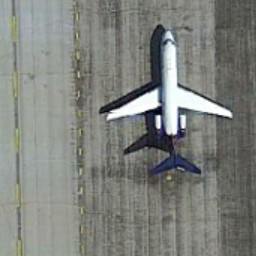Airplane: (98, 20, 238, 187)
